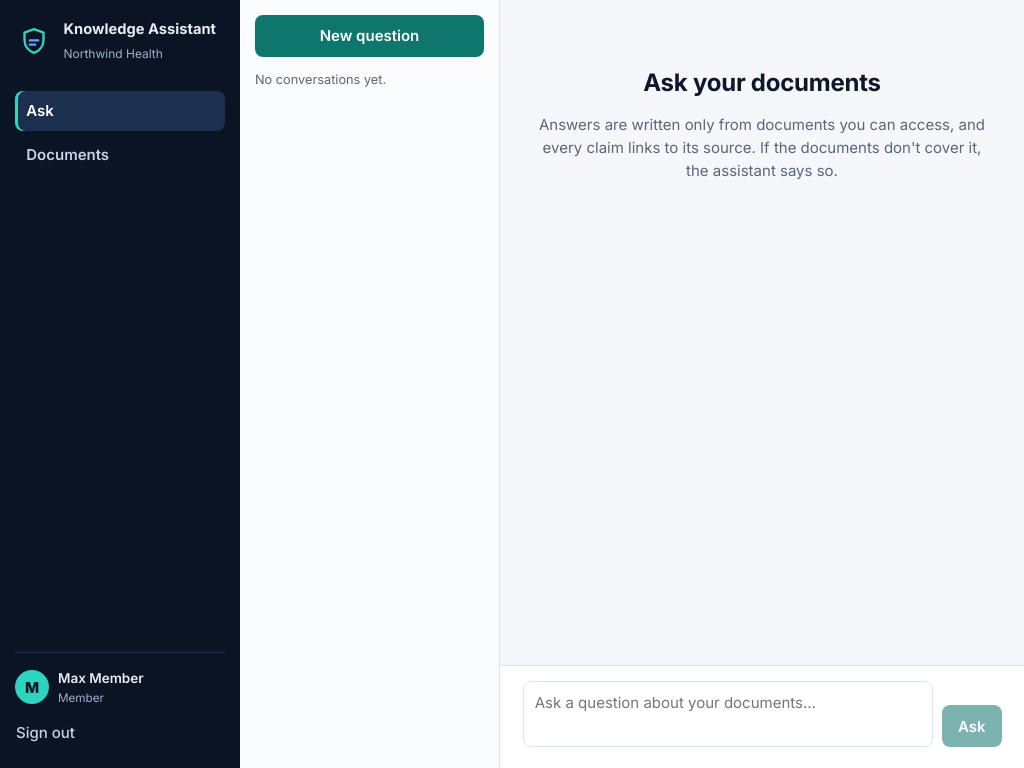
chat › asks a question and renders the answer with its citations
Type "How long do refunds take?" into the text box named "Your question" at (728, 714), box [522,680,933,747]
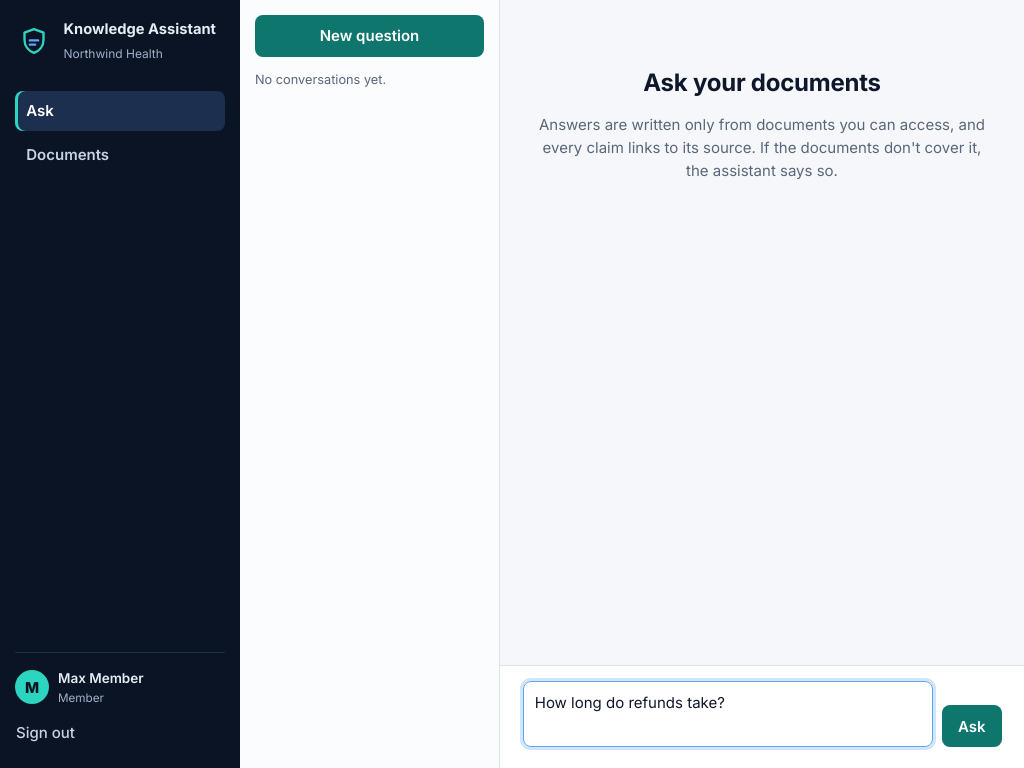
Click the button "Ask" at (972, 726), box [942,705,1002,747]
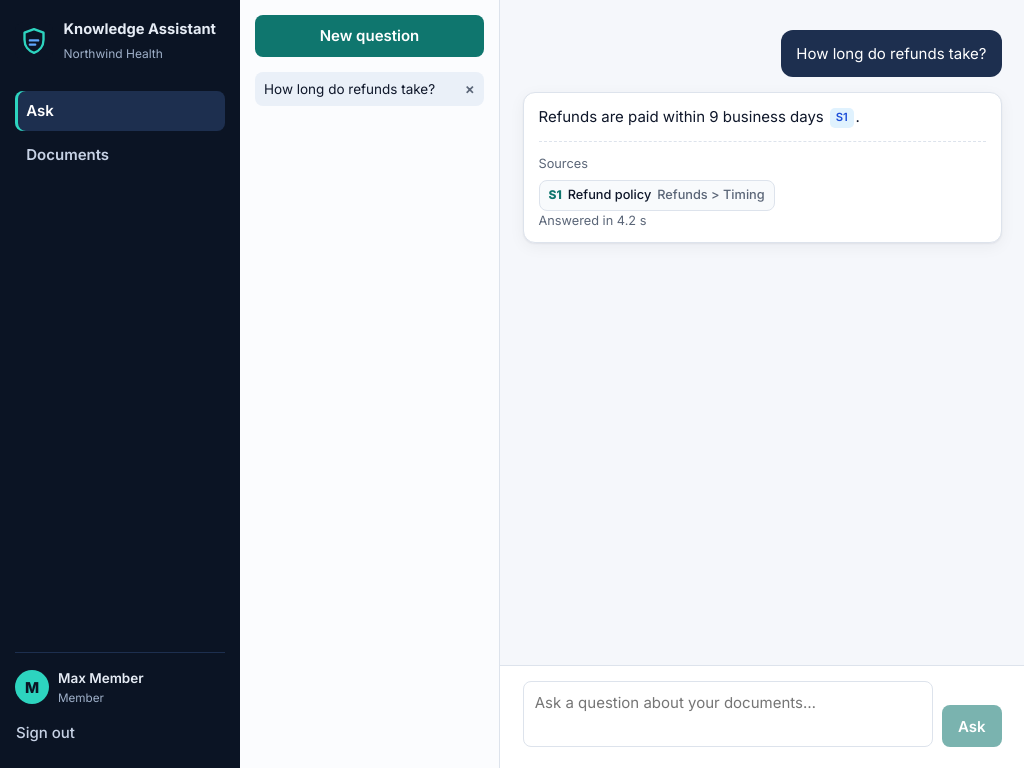
Check: the element with test id "answer" shows "Refunds are paid within 9 business days", box [538,107,828,126]
Check: the button named "Open source S1: Refund policy" is shown, box [830,108,854,128]
Check: the text "Refunds > Timing" is shown, box [657,185,765,205]
